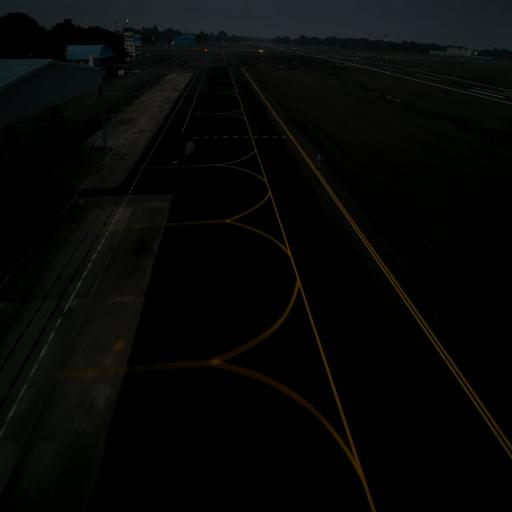on: (318, 152, 321, 160)
